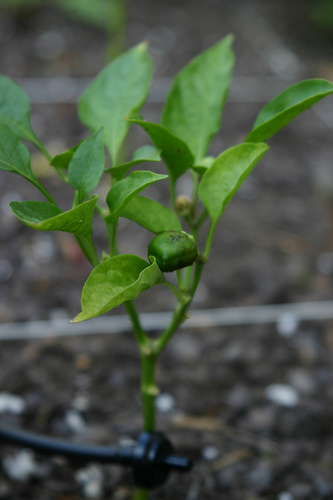capsicum: (150, 227, 196, 268)
